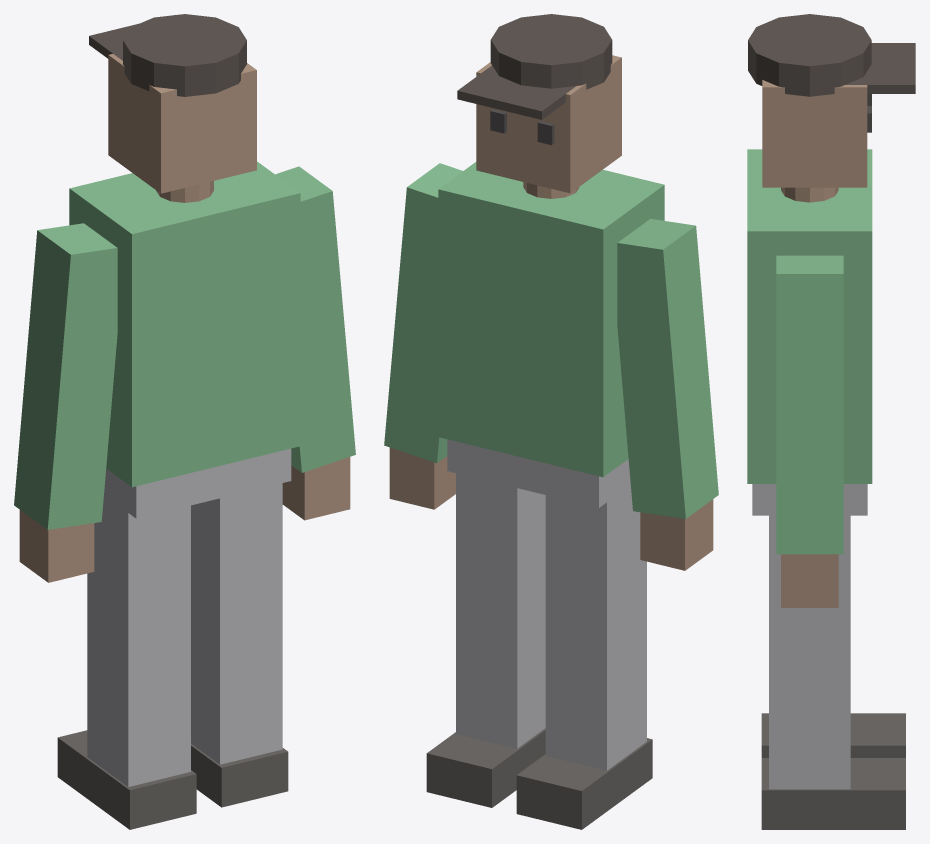
The model's file is civ_04.glb.
3 views of the same model, side by side, from view 1: azimuth 30°, elevation 25°; view 2: azimuth 150°, elevation 25°; view 3: azimuth 270°, elevation 25° (orthographic). The views are drawn at different scales.
Visible parts, largest first — view 1: civ_04_torso, civ_04_leg_L, civ_04_arm_L, civ_04_leg_R, civ_04_head, civ_04_arm_R, civ_04_cap, civ_04_shoe_L, civ_04_pelvis, civ_04_shoe_R, civ_04_hand_L, civ_04_hand_R (+2 smaller); view 2: civ_04_torso, civ_04_leg_L, civ_04_arm_L, civ_04_leg_R, civ_04_arm_R, civ_04_head, civ_04_cap, civ_04_shoe_L, civ_04_shoe_R, civ_04_pelvis, civ_04_hand_L, civ_04_brim (+1 smaller); view 3: civ_04_torso, civ_04_arm_R, civ_04_leg_R, civ_04_head, civ_04_cap, civ_04_shoe_R, civ_04_hand_R, civ_04_shoe_L, civ_04_brim, civ_04_pelvis, civ_04_neck.
Part boxes in pixels (x1=…): civ_04_torso: x1=69, y1=161, x2=300, y2=487; civ_04_leg_L: x1=87, y1=495, x2=190, y2=786; civ_04_arm_L: x1=14, y1=223, x2=117, y2=529; civ_04_leg_R: x1=191, y1=483, x2=282, y2=764; civ_04_head: x1=108, y1=54, x2=256, y2=193; civ_04_arm_R: x1=275, y1=166, x2=355, y2=472; civ_04_cap: x1=123, y1=14, x2=246, y2=96; civ_04_shoe_L: x1=57, y1=730, x2=196, y2=829; civ_04_pelvis: x1=104, y1=448, x2=291, y2=518; civ_04_shoe_R: x1=191, y1=744, x2=288, y2=807; civ_04_hand_L: x1=19, y1=510, x2=94, y2=582; civ_04_hand_R: x1=282, y1=457, x2=350, y2=520; civ_04_torso: x1=438, y1=162, x2=664, y2=477; civ_04_leg_L: x1=545, y1=485, x2=646, y2=770; civ_04_arm_L: x1=617, y1=219, x2=718, y2=518; civ_04_leg_R: x1=456, y1=473, x2=545, y2=748; civ_04_arm_R: x1=384, y1=163, x2=462, y2=463; civ_04_head: x1=476, y1=55, x2=621, y2=193; civ_04_cap: x1=490, y1=14, x2=612, y2=89; civ_04_shoe_L: x1=516, y1=738, x2=652, y2=829; civ_04_shoe_R: x1=426, y1=728, x2=545, y2=807; civ_04_pelvis: x1=447, y1=439, x2=630, y2=507; civ_04_hand_L: x1=640, y1=499, x2=713, y2=570; civ_04_brim: x1=457, y1=65, x2=575, y2=119; civ_04_torso: x1=747, y1=149, x2=872, y2=483; civ_04_arm_R: x1=776, y1=255, x2=843, y2=554; civ_04_leg_R: x1=769, y1=515, x2=850, y2=789; civ_04_head: x1=762, y1=80, x2=867, y2=187; civ_04_cap: x1=748, y1=14, x2=871, y2=96; civ_04_shoe_R: x1=761, y1=758, x2=905, y2=829; civ_04_hand_R: x1=781, y1=554, x2=838, y2=607; civ_04_shoe_L: x1=761, y1=713, x2=905, y2=757; civ_04_brim: x1=845, y1=43, x2=915, y2=93; civ_04_pelvis: x1=752, y1=484, x2=867, y2=515; civ_04_neck: x1=781, y1=187, x2=838, y2=202.
Bounding box in the file's own units: 0.7318 × 1.71 × 0.3465.
